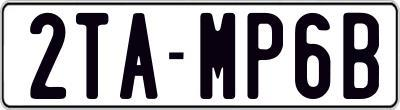2: (27, 13, 67, 101)
6: (294, 12, 329, 104)
A: (117, 11, 158, 100)
B: (340, 13, 382, 102)
M: (198, 11, 239, 103)
P: (245, 13, 284, 105)
T: (76, 10, 114, 98)
